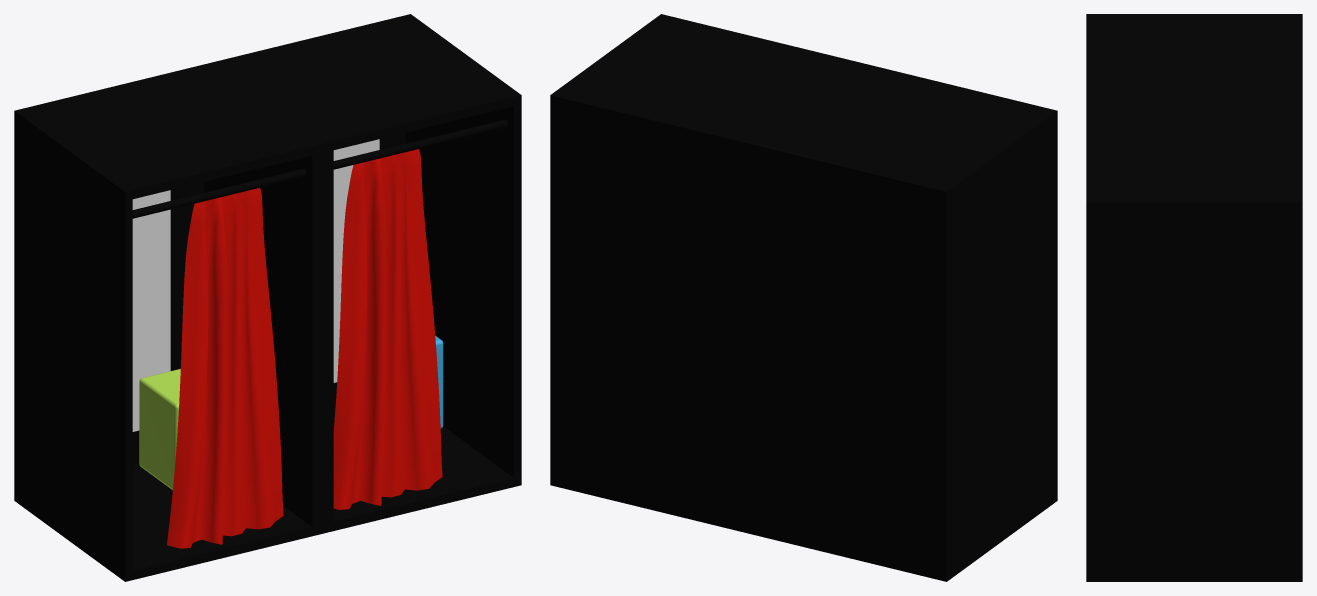
File: TukarBaju.fbx
3 renders of one model, left to right at view 1: azimuth 30°, elevation 25°; view 2: azimuth 150°, elevation 25°; view 3: azimuth 270°, elevation 25°, orthographic. The views are drawn at different scales.
Parts seen in each view (by area): view 1: TukarBaju, Kain, Cermin, KerusiPetak, Besi; view 2: TukarBaju; view 3: TukarBaju.
Boxes of the visible parts, x1,y1,x2,y2 form: TukarBaju: [14, 14, 521, 581]; Kain: [167, 149, 442, 548]; Cermin: [132, 139, 379, 431]; KerusiPetak: [139, 369, 180, 489]; Besi: [132, 119, 508, 218]; TukarBaju: [550, 14, 1057, 581]; TukarBaju: [1086, 14, 1302, 581].
Bounding box in the file's own units: 292 × 275 × 142.
